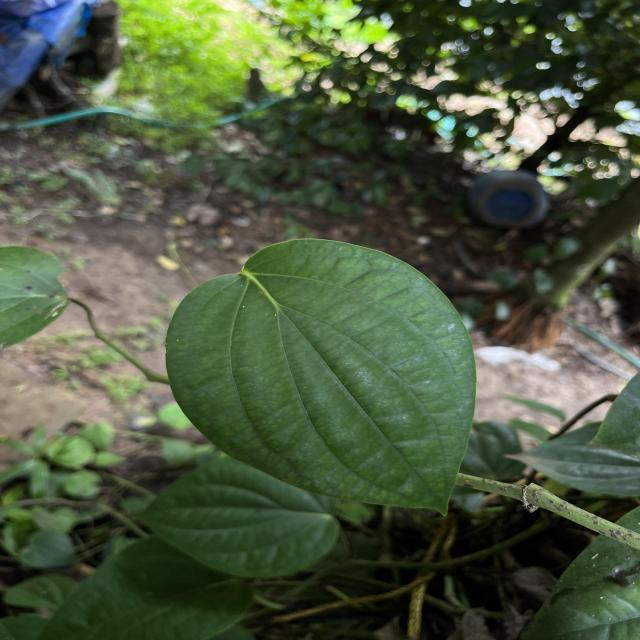Piper nigrum: (163, 236, 481, 522)
